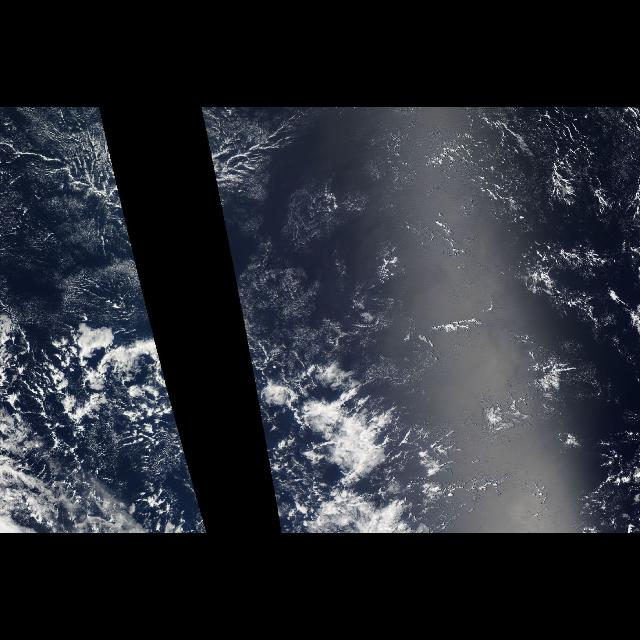Gravel: (2, 308, 204, 532)
Sugar: (208, 140, 356, 328), (24, 140, 152, 328)
